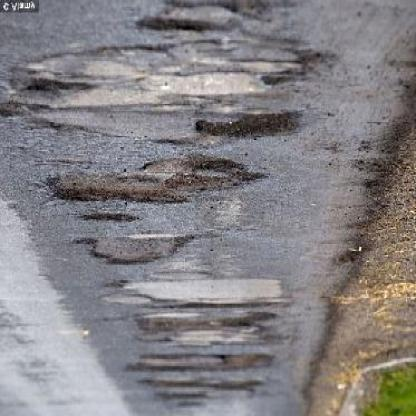pothole: (46, 155, 270, 208), (70, 231, 197, 270), (134, 310, 278, 337), (124, 353, 274, 378), (194, 109, 307, 141), (136, 377, 261, 393), (78, 213, 141, 226)
